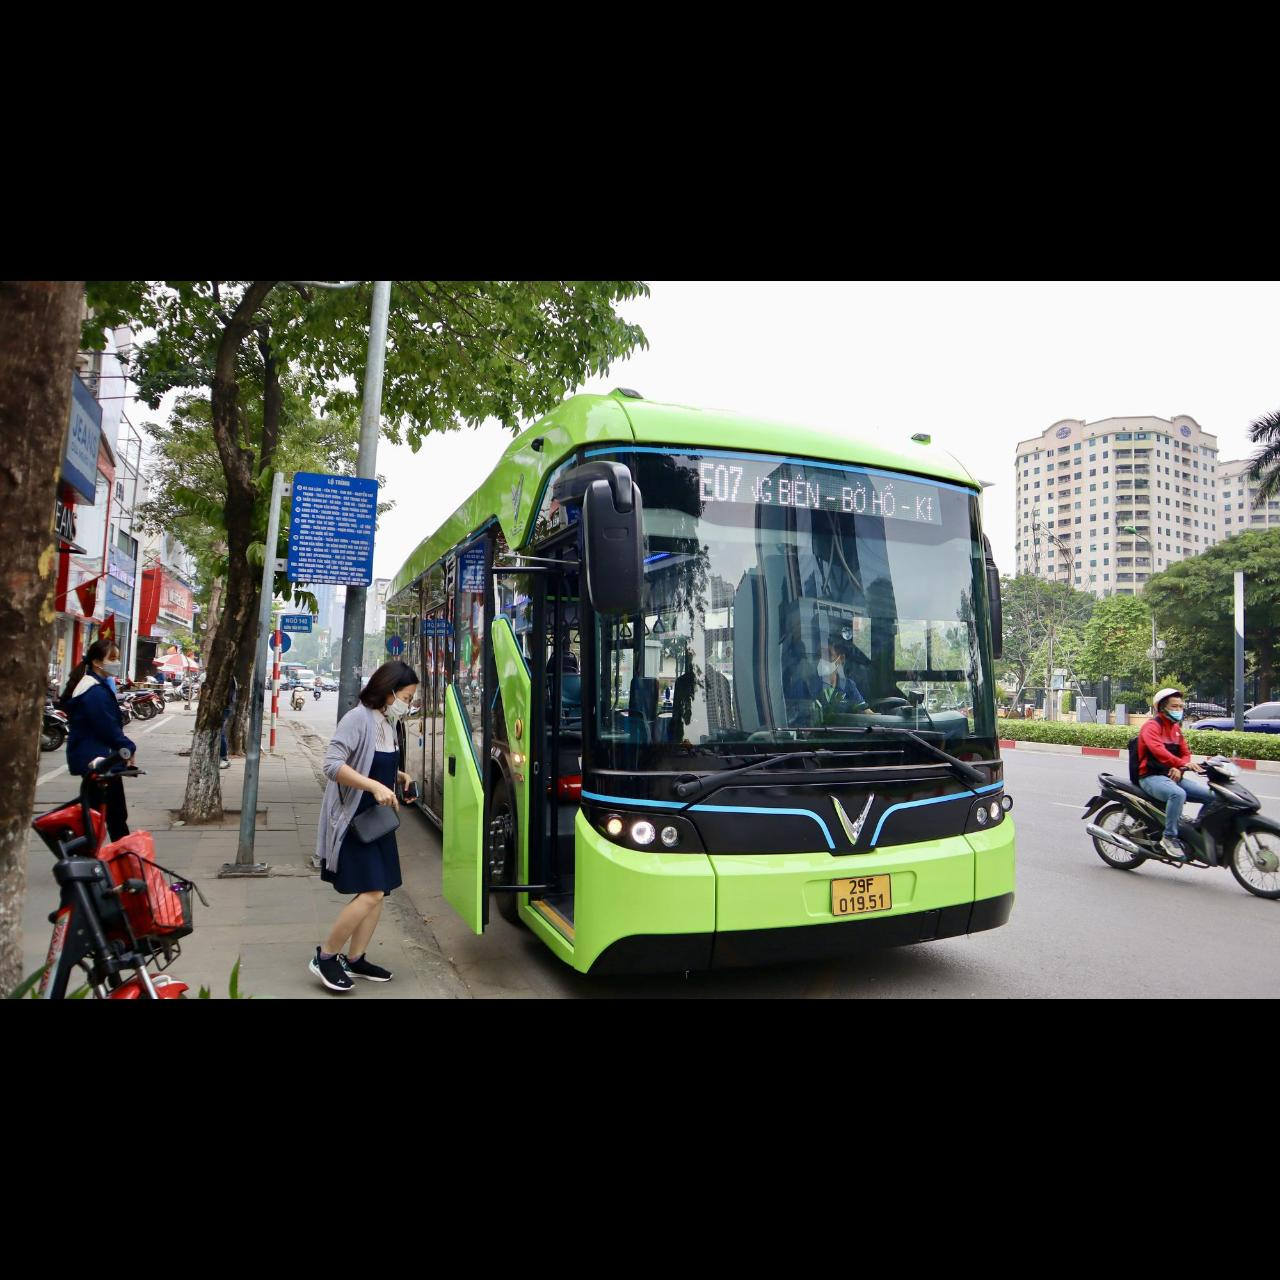bienso: (830, 874, 892, 918)
